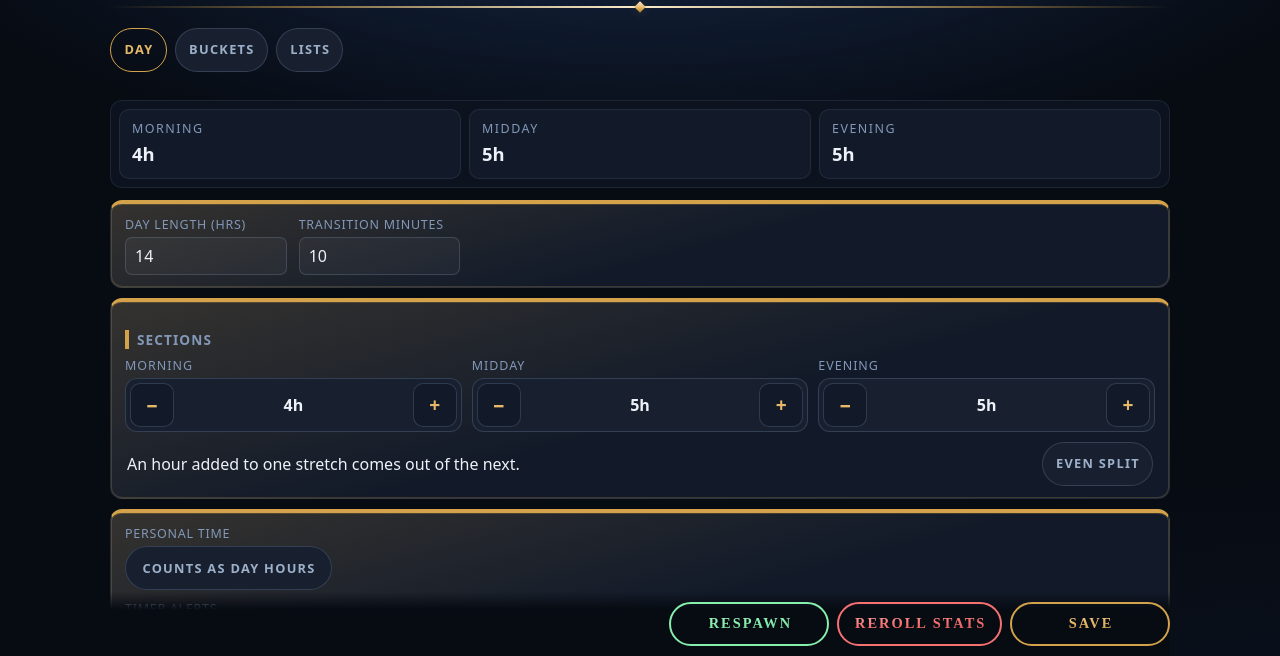
Test case: a weighted bucket spanning sections › makes its items pick a section, the same as Work
Click the button "Lists".
click(310, 50)  # box [276,28,344,72]
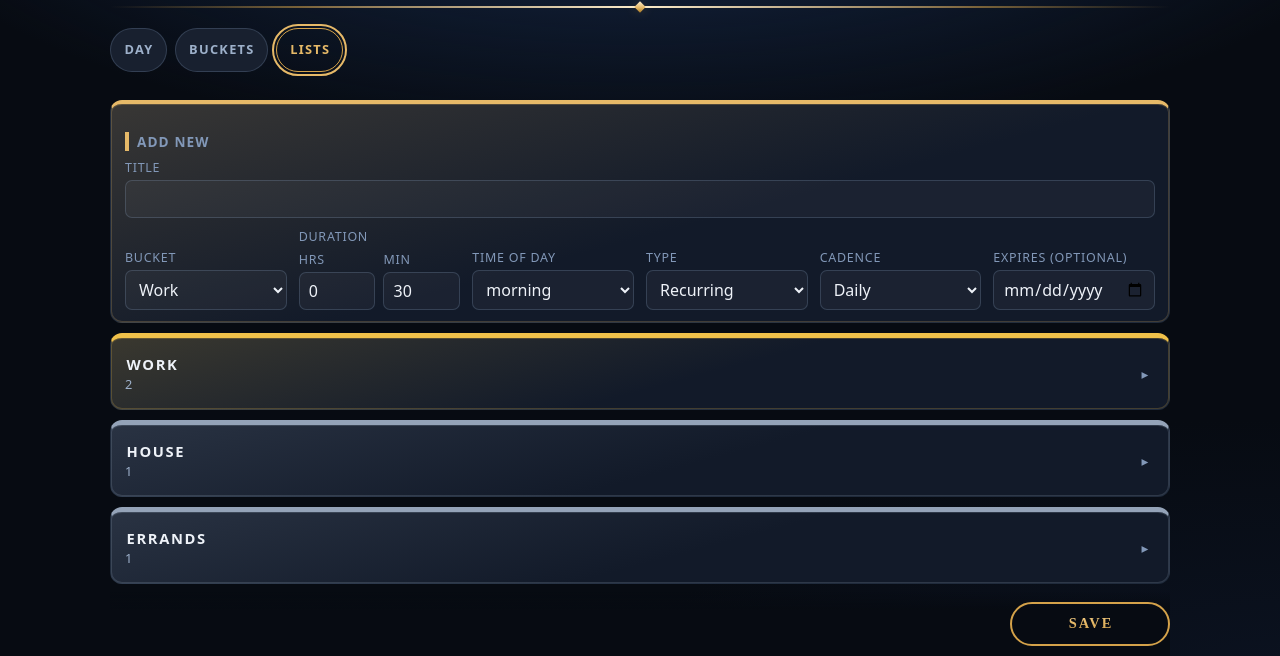
Click the button "Errands 1".
click(167, 538)  # box [125,524,1155,571]
(page scrolled)
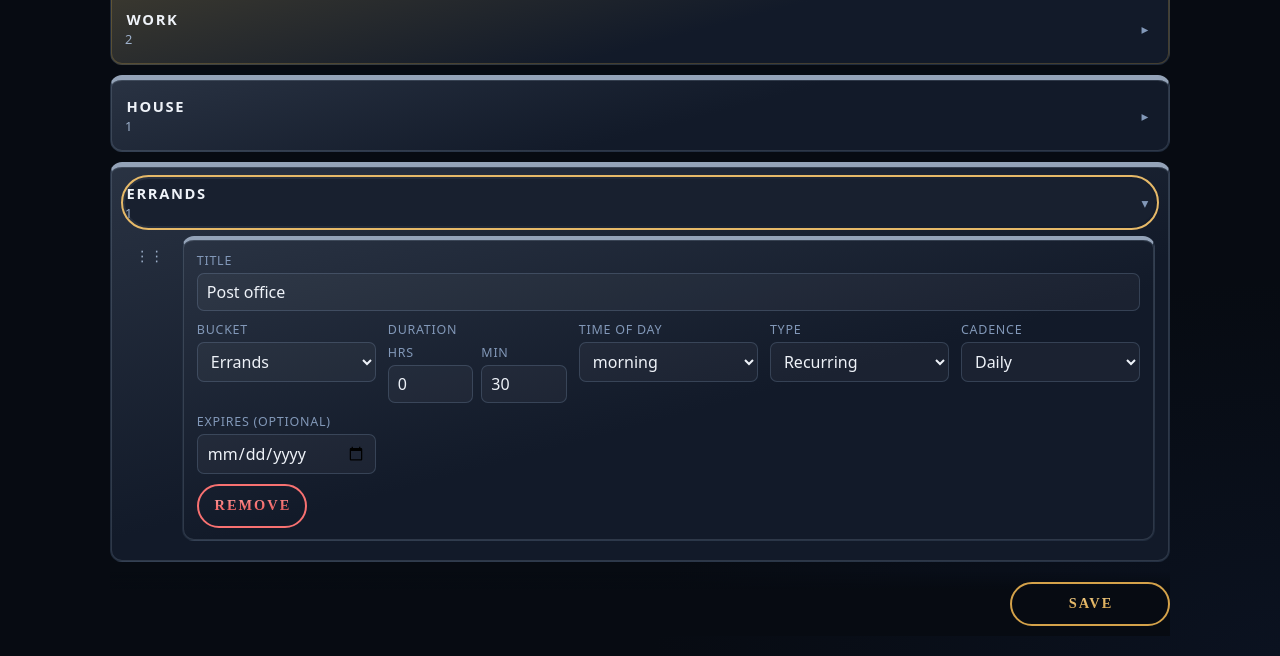
Result: the dropdown named "slot" is shown at [579,342,758,382]
